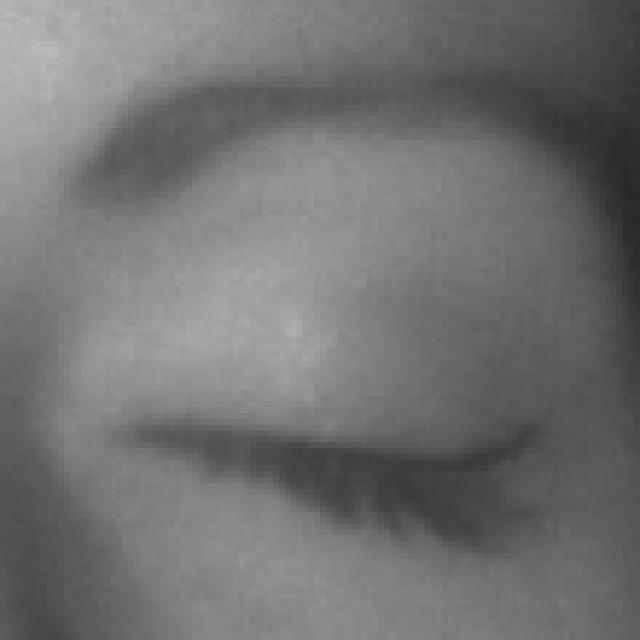Eyeclosed: (124, 256, 549, 640)
